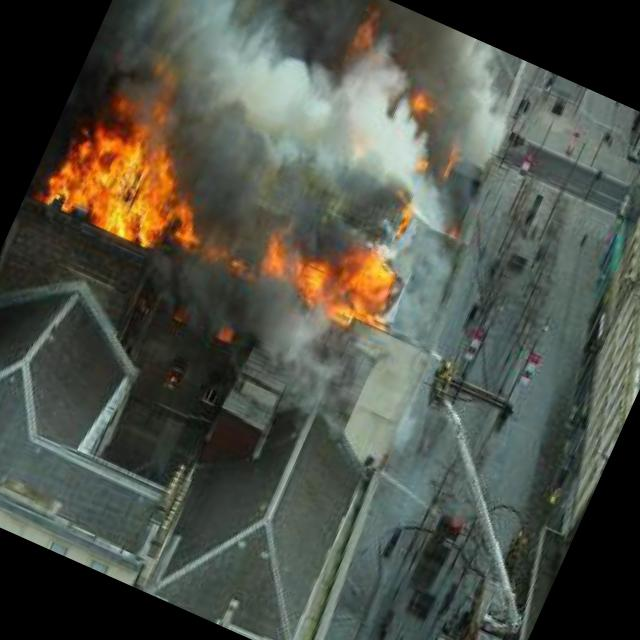fire: (34, 112, 219, 275), (249, 189, 418, 345), (326, 0, 397, 85), (414, 138, 474, 192), (401, 79, 448, 133), (388, 194, 428, 245)
smoke: (168, 24, 431, 252), (73, 0, 333, 165)
